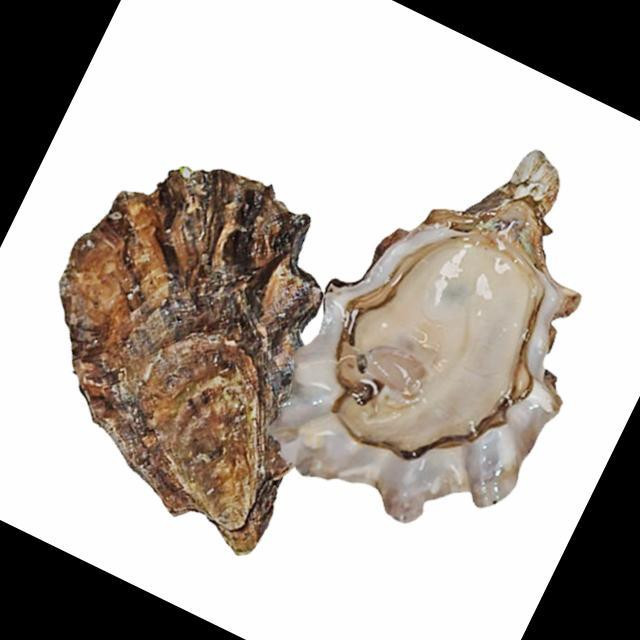Oyster- Indeterminate: (60, 168, 321, 553)
Oyster-Open: (269, 151, 580, 522)
